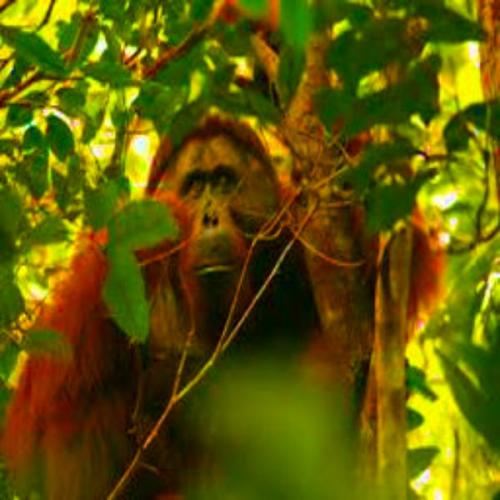orangutan-endangered: (0, 110, 446, 500)
